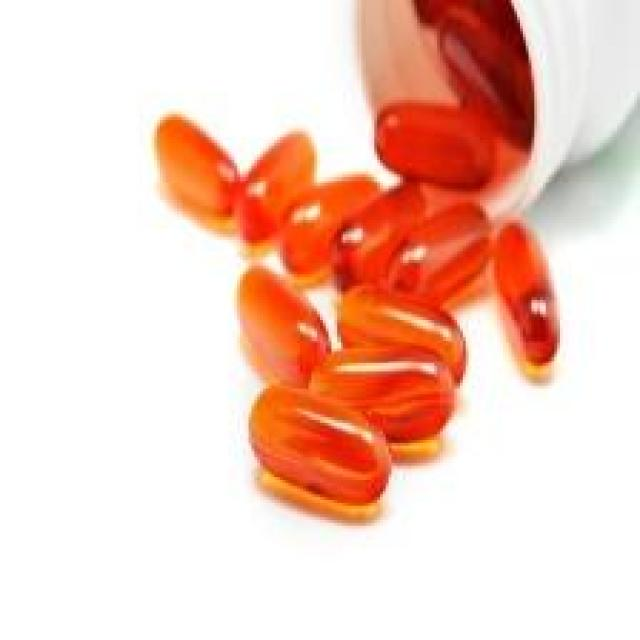Medicine: (131, 0, 640, 606)
